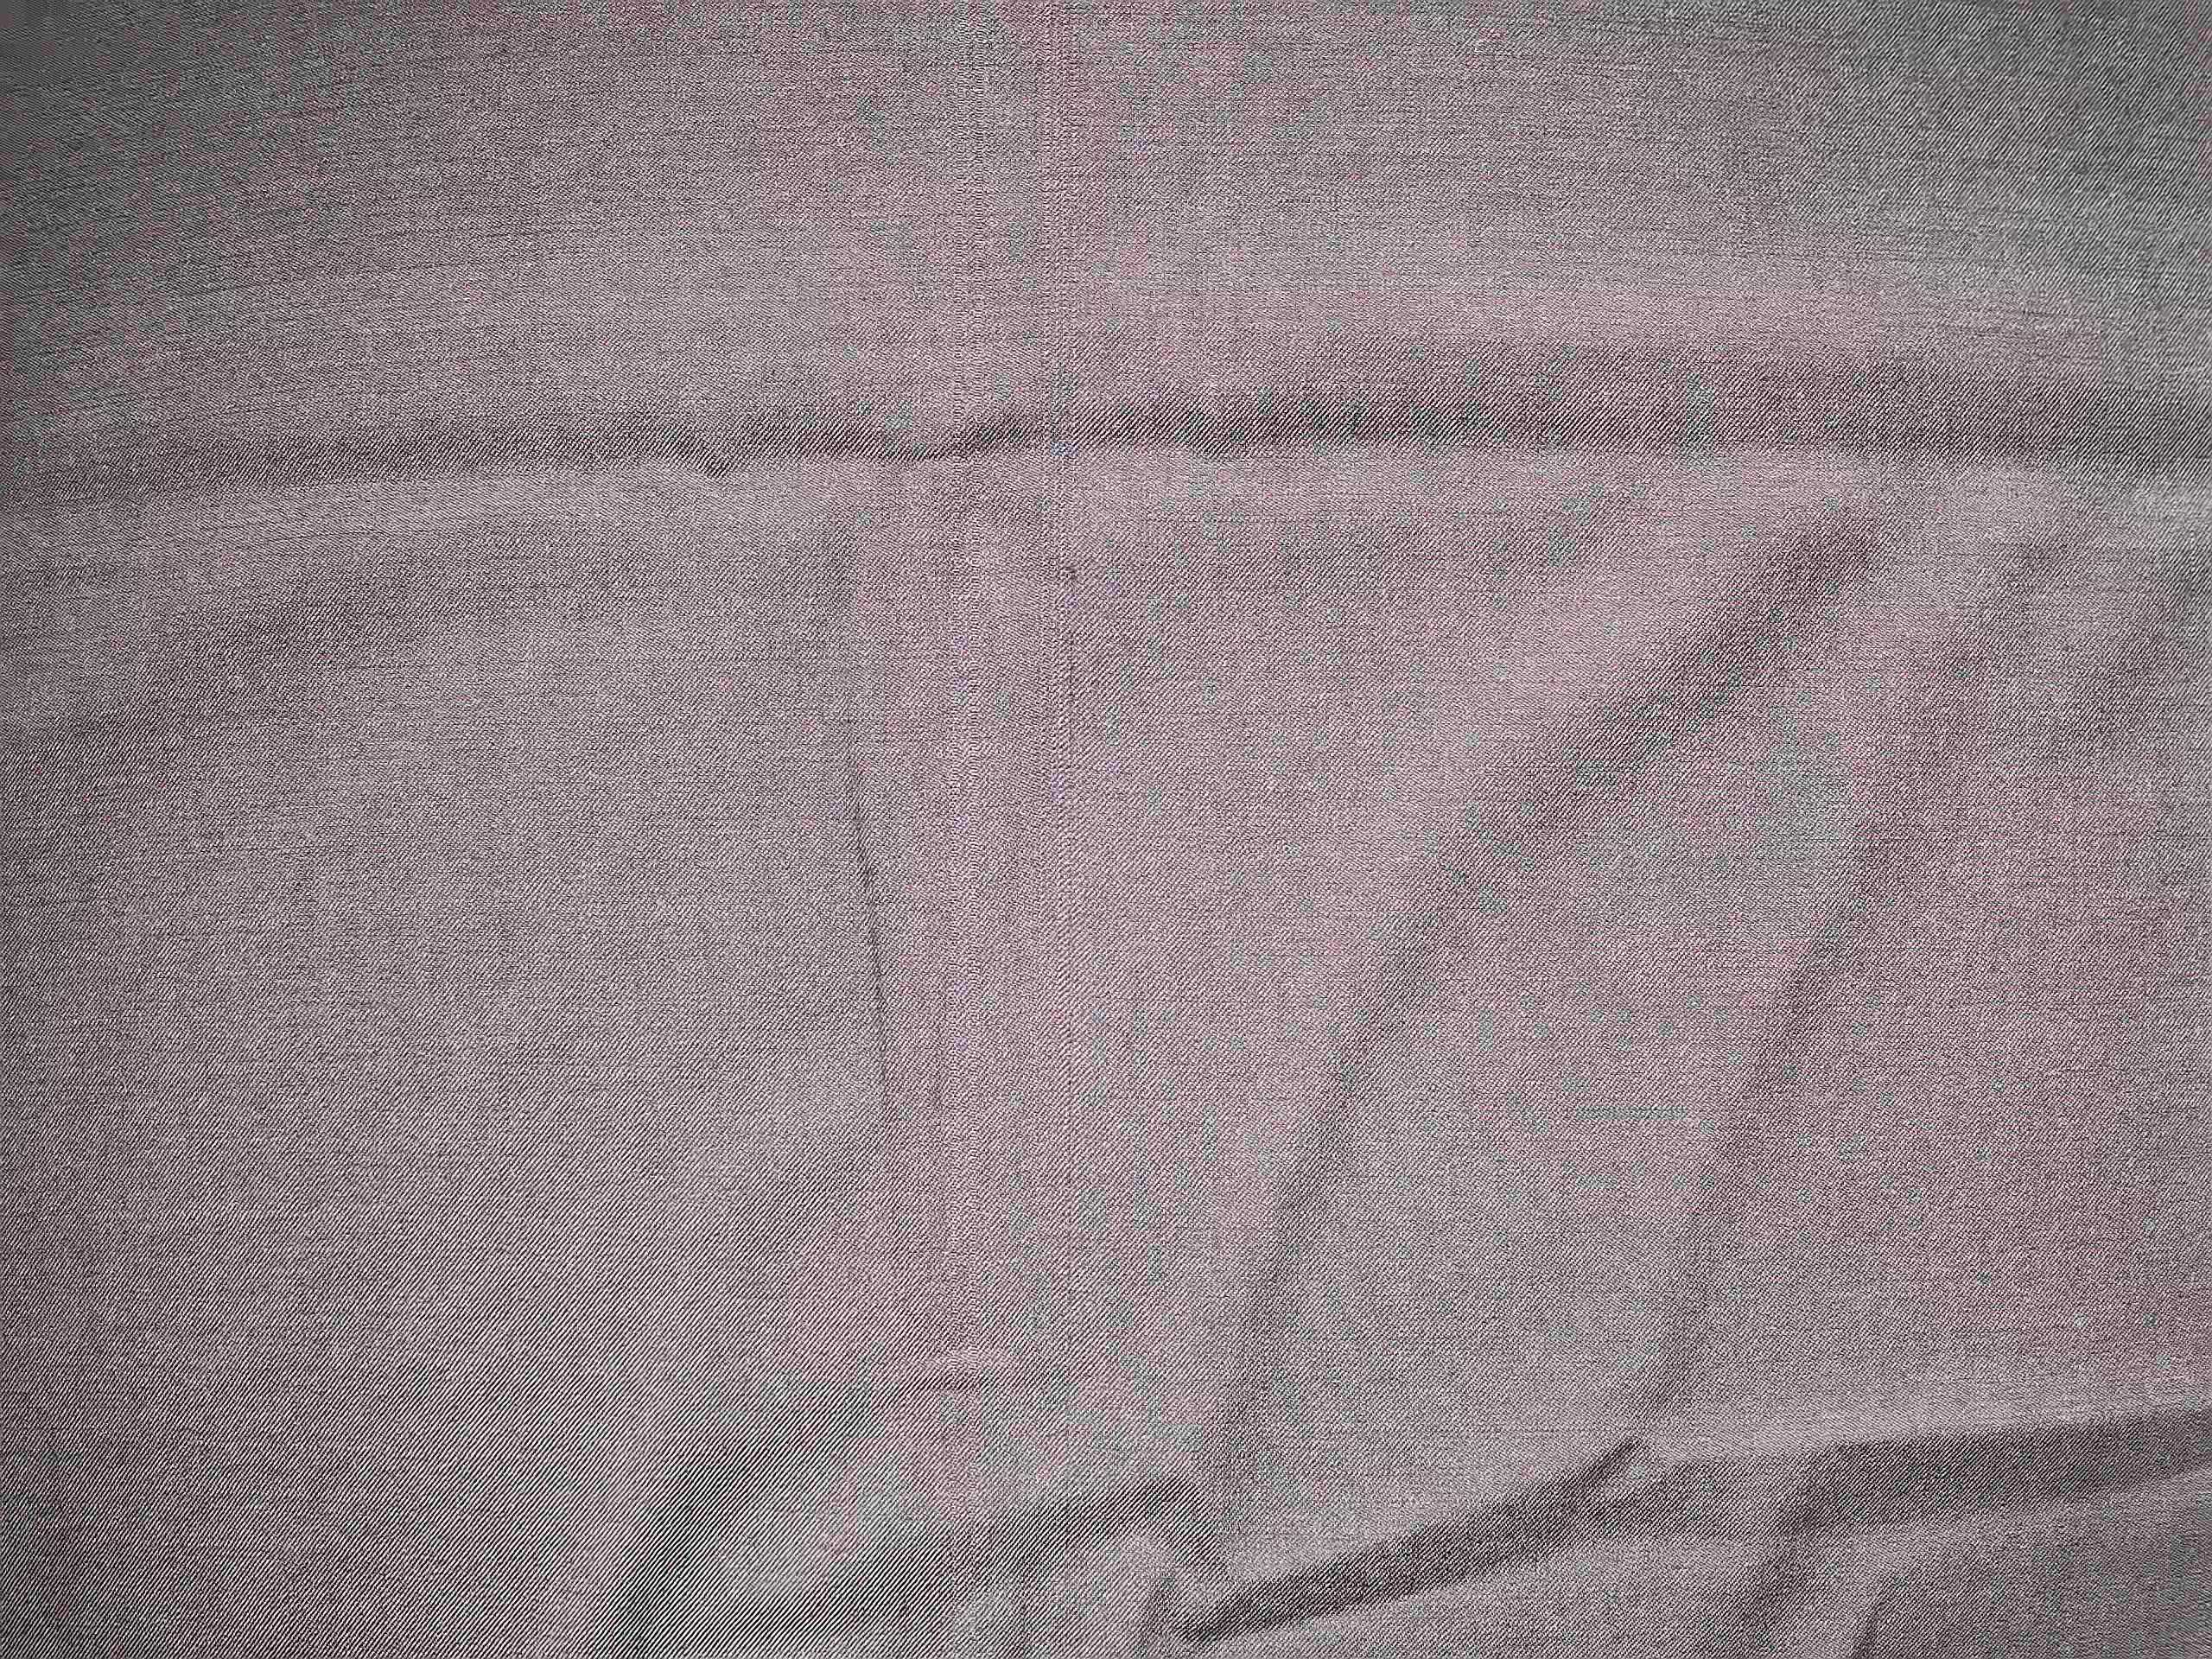hanging-warp: (1022, 21, 1115, 1591)
